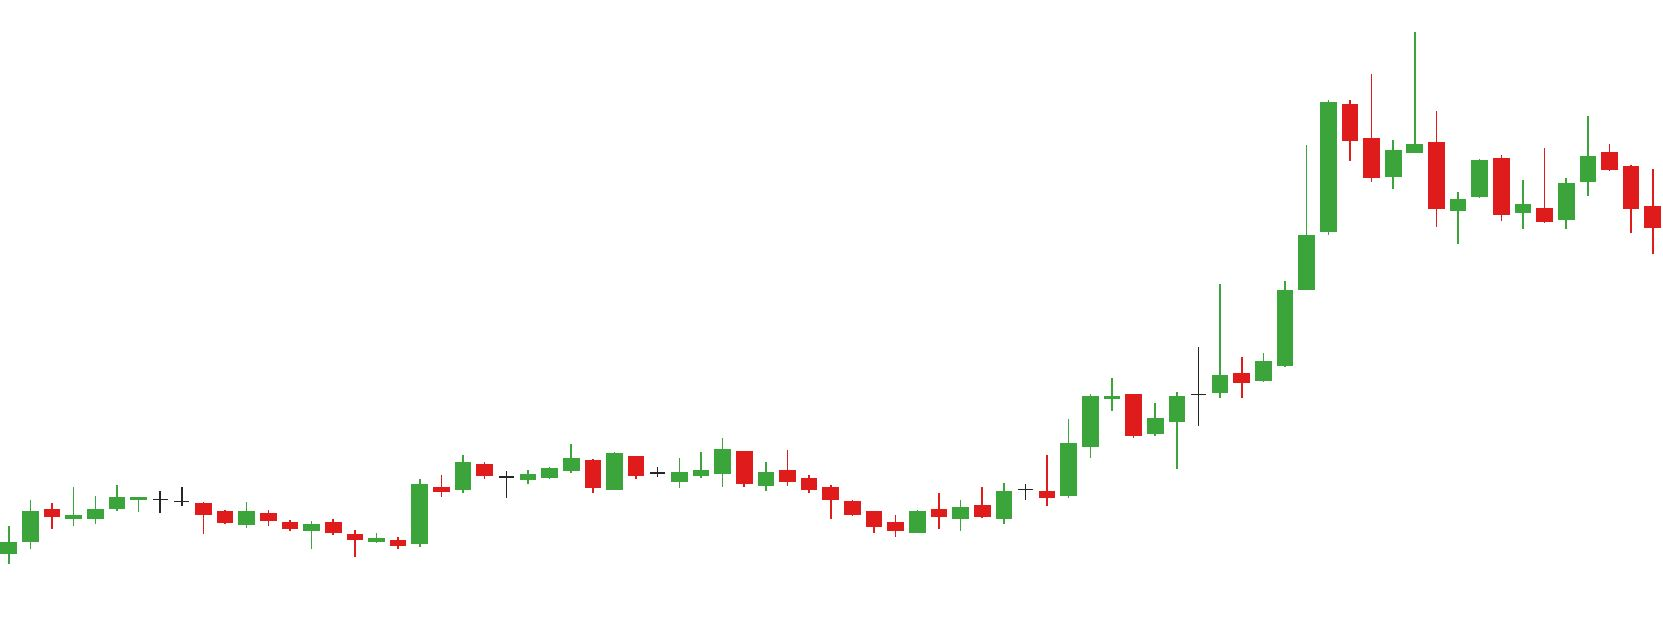sell: (563, 438, 755, 476)
